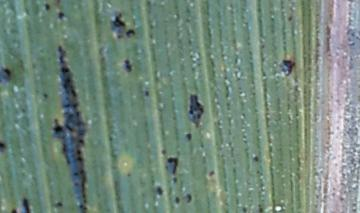tarspot: (50, 42, 90, 213), (109, 10, 138, 41), (186, 93, 206, 130), (276, 58, 297, 78), (1, 66, 18, 89), (164, 156, 180, 176), (21, 196, 31, 213), (122, 58, 133, 73), (1, 138, 11, 153), (153, 183, 163, 195), (185, 192, 194, 205), (42, 1, 52, 12), (142, 89, 153, 99), (206, 169, 217, 178), (56, 11, 66, 20), (173, 194, 181, 205), (55, 200, 64, 209), (252, 154, 260, 164), (256, 203, 264, 213), (160, 146, 167, 157), (286, 14, 294, 23), (41, 91, 50, 99), (184, 132, 191, 141), (53, 1, 62, 8), (171, 176, 178, 184), (241, 205, 248, 213), (11, 207, 17, 213)
